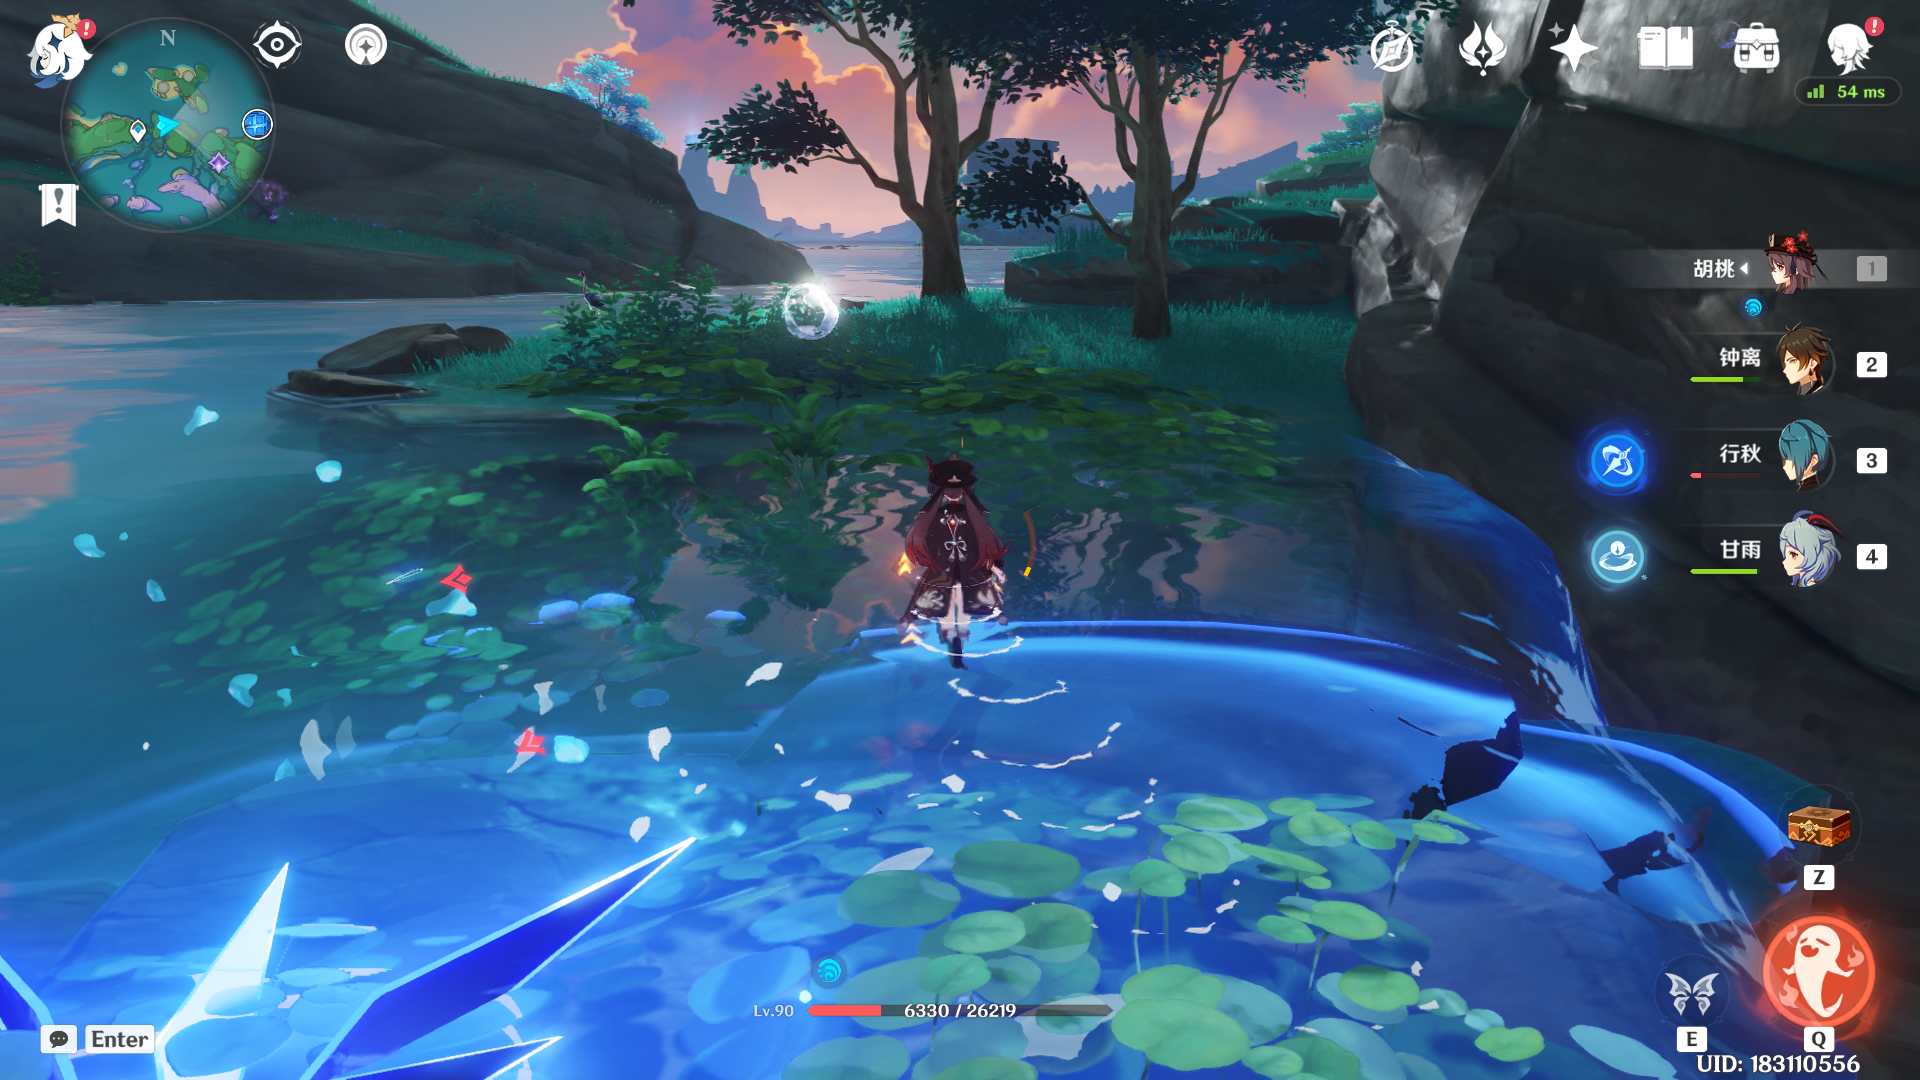character: (862, 425, 1058, 688)
